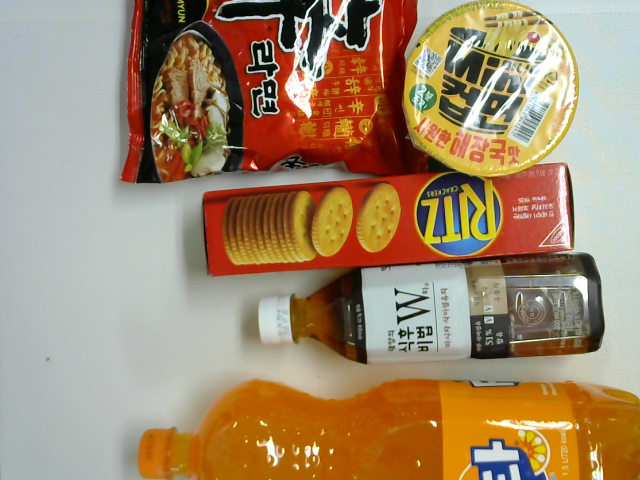Hejangmini: (403, 1, 580, 176)
Hwanta_Orange_1.5L: (138, 379, 640, 479)
Post-meal_recipe_W_tea_500ml: (259, 254, 603, 366)
Ritz_Cracker: (201, 163, 575, 276)
Sinramen: (119, 1, 420, 183)
